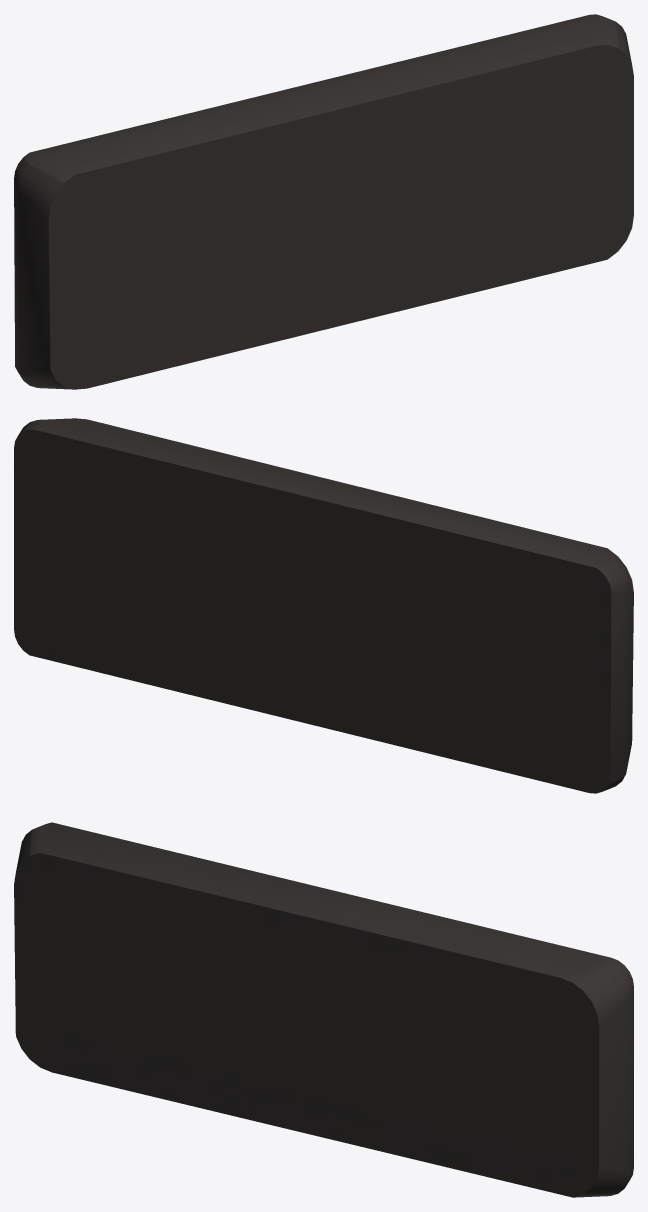
The model's file is back_pad__cushion.glb.
3 views of the same model, one above another, from view 1: azimuth 30°, elevation 25°; view 2: azimuth 150°, elevation 25°; view 3: azimuth 330°, elevation 25° (orthographic).
Parts seen in each view (by area): view 1: world; view 2: world; view 3: world.
Part boxes in pixels (box(x1,y1,x2,y2)): world: box(14, 14, 633, 389); world: box(14, 418, 633, 793); world: box(14, 822, 633, 1197).
Bounding box in the file's own units: 0.96 × 0.35 × 0.078.
1 material, 1 textured.
